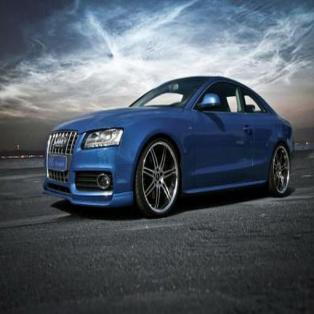Auto: (43, 70, 294, 222)
